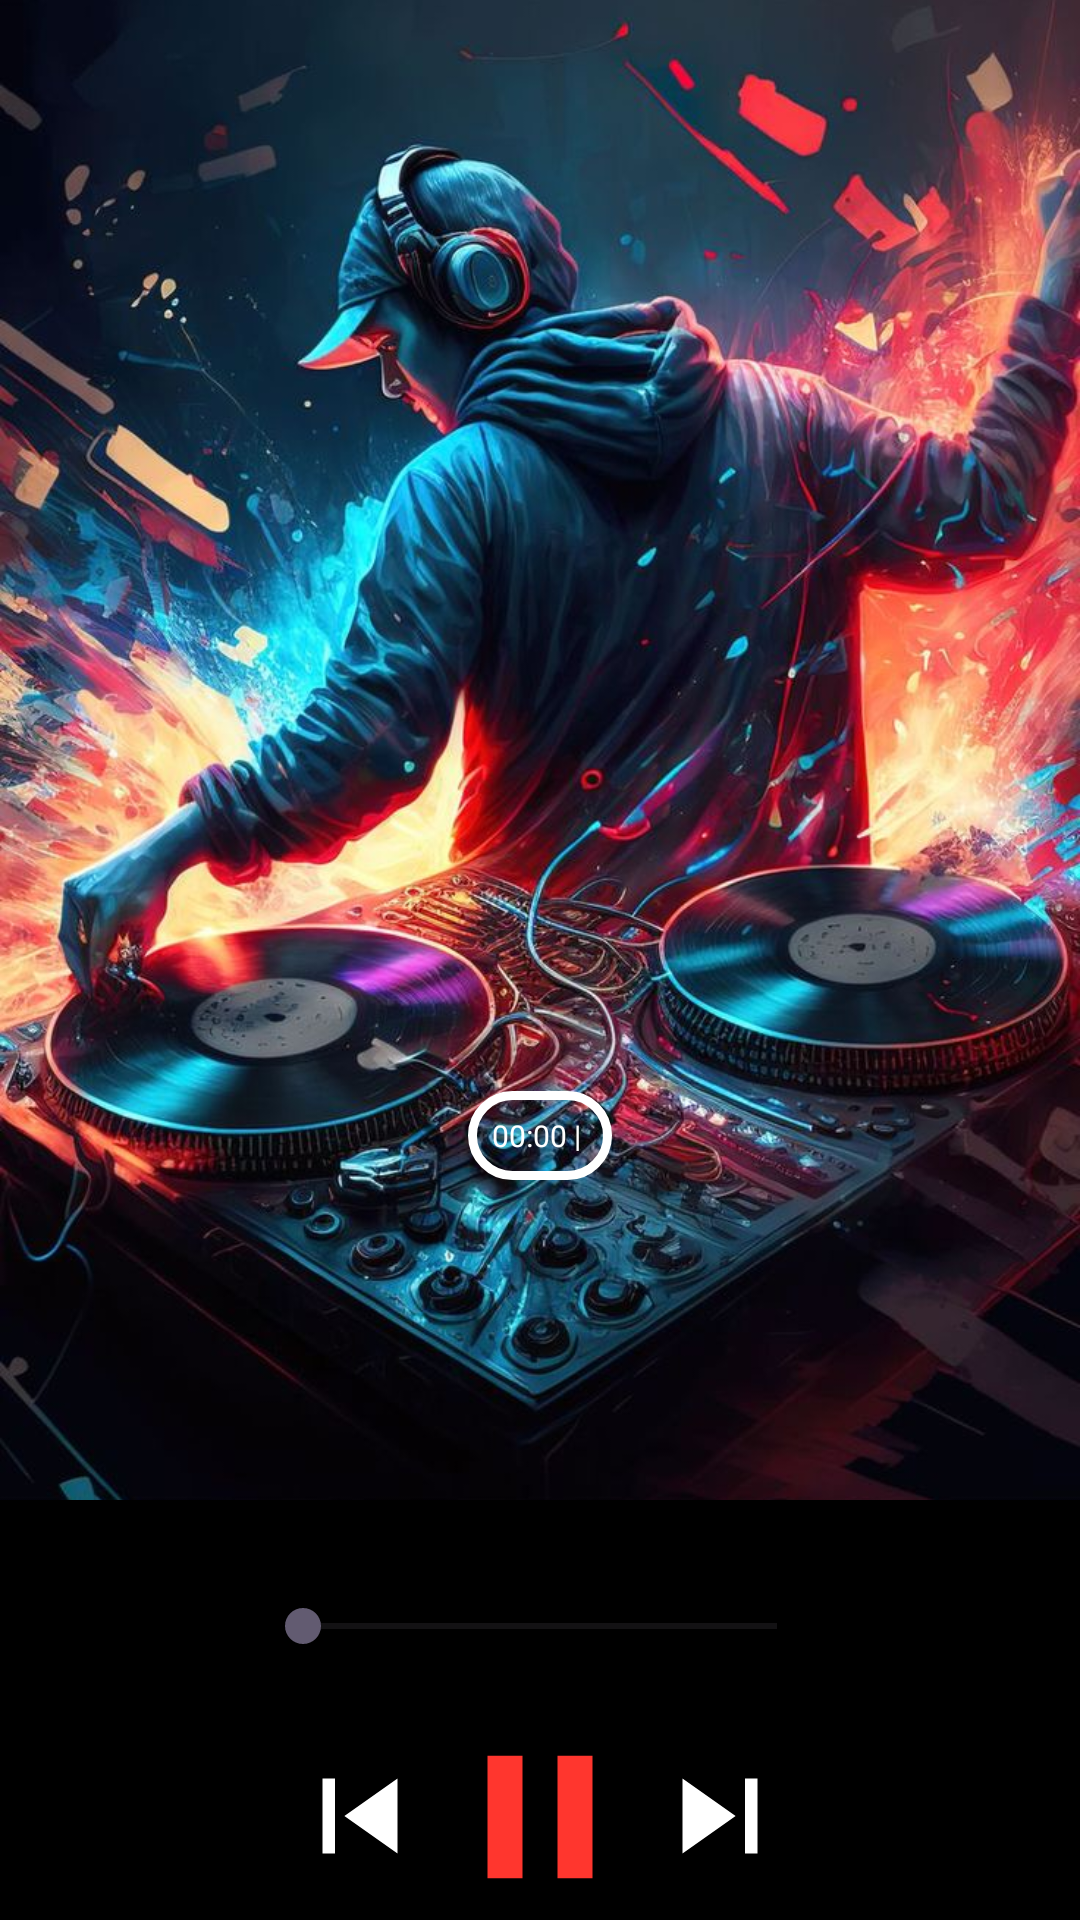

Named icons in this screenshot (1080 × 1920) and their bounding boxes, (x1, y1, x2, y2):
pause: (487, 1755, 593, 1879)
skip next: (682, 1778, 758, 1854)
skip previous: (322, 1778, 398, 1854)
